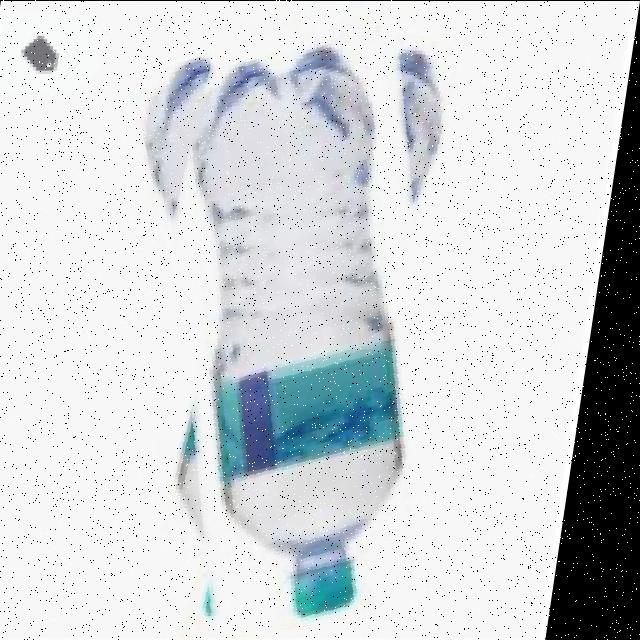litter: (91, 19, 483, 629)
